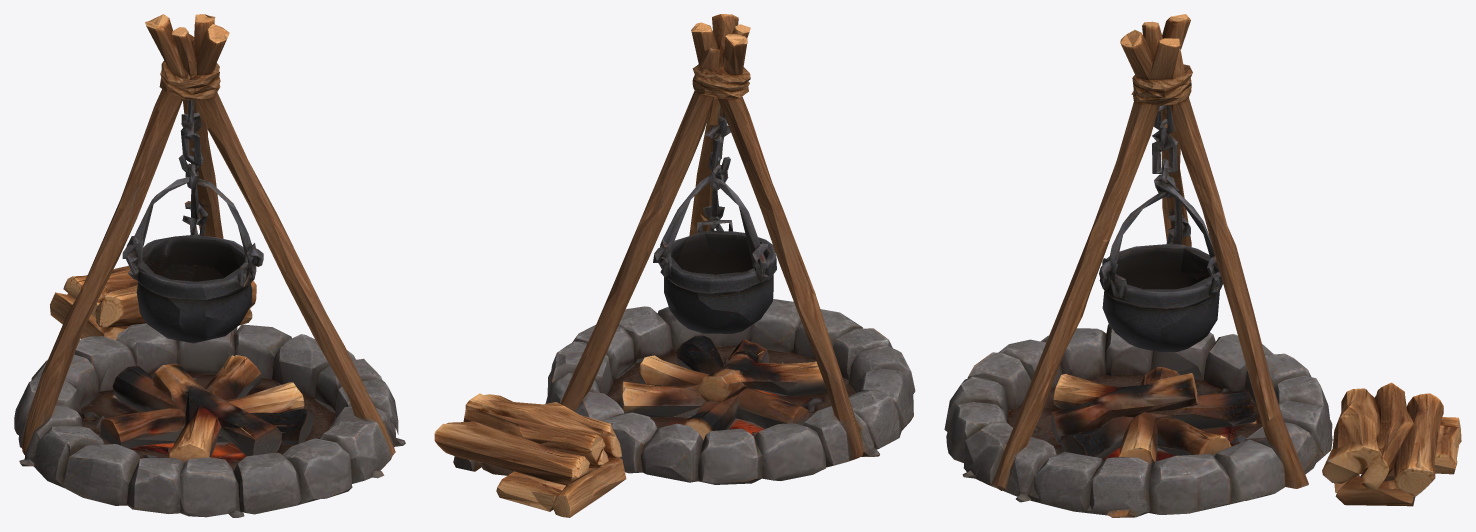
The model's file is campfire.glb.
3 views of the same model, side by side, from view 1: azimuth 30°, elevation 25°; view 2: azimuth 150°, elevation 25°; view 3: azimuth 270°, elevation 25° (orthographic). The views are drawn at different scales.
Parts seen in each view (by area): view 1: Mesh_0; view 2: Mesh_0; view 3: Mesh_0.
Part boxes in pixels (bbox=[...]): Mesh_0: bbox=[14, 14, 405, 517]; Mesh_0: bbox=[434, 14, 915, 517]; Mesh_0: bbox=[944, 14, 1461, 517].
Size of the model in its own units: 1.44 by 1.64 by 1.89.
Materials: 1 (1 with a texture image).
